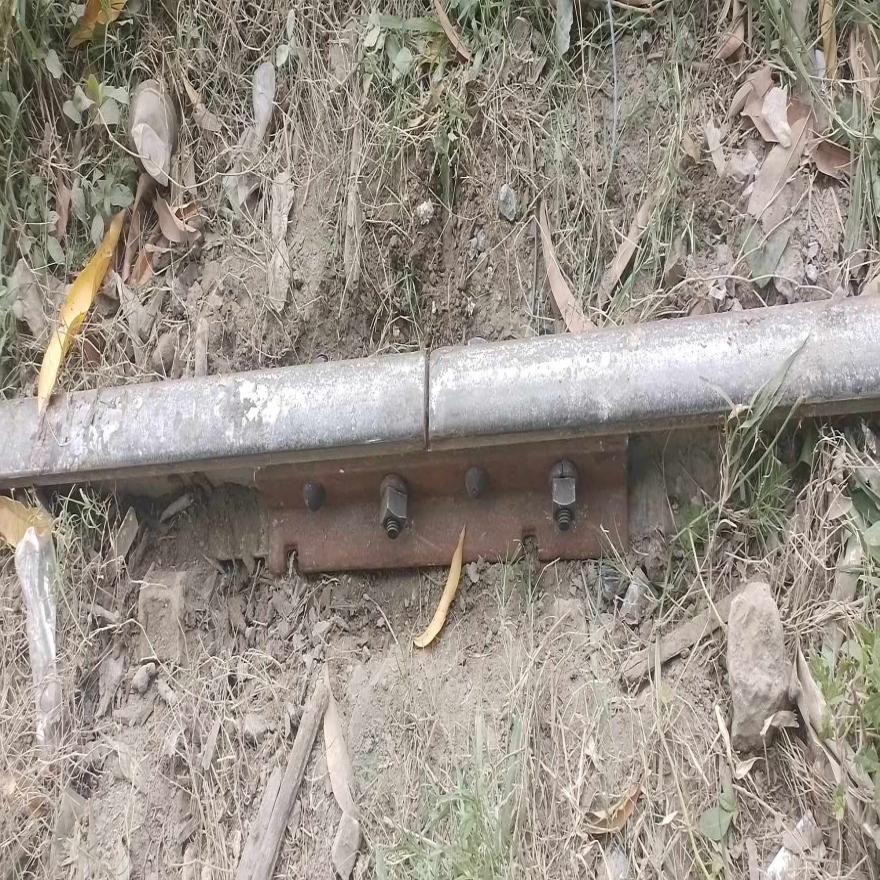railway-gap: (391, 328, 464, 474)
